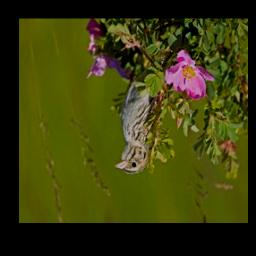Sparrow: (111, 62, 165, 179)
